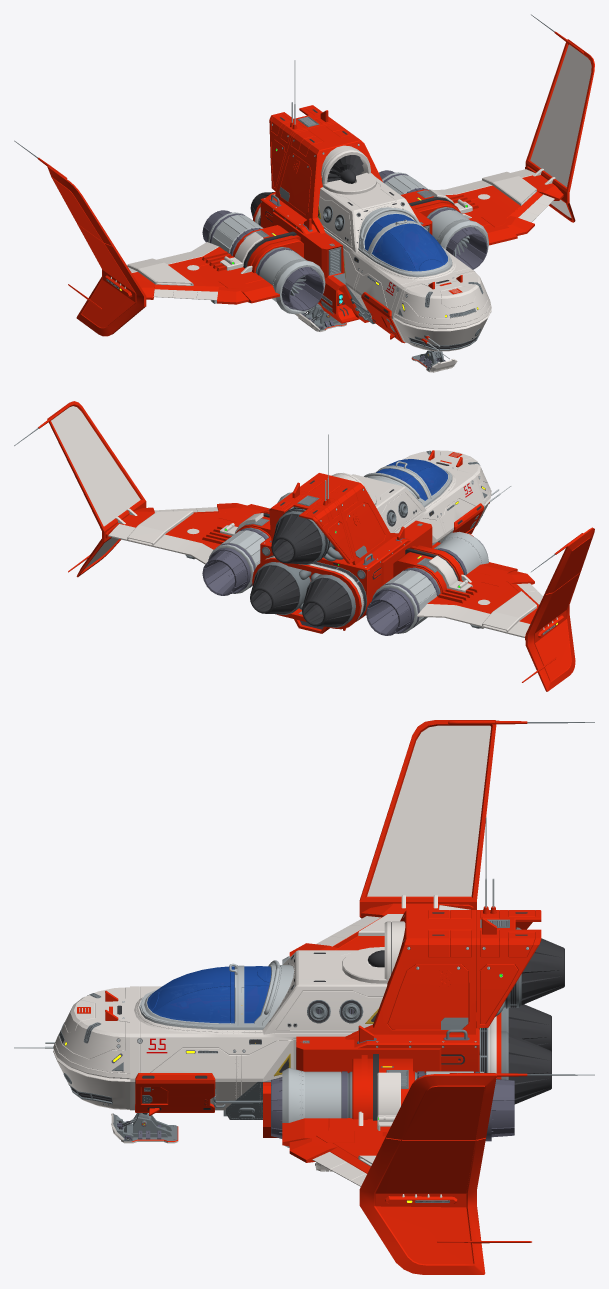
The model's file is radiant-pillar.glb.
3 views of the same model, one above another, from view 1: azimuth 30°, elevation 25°; view 2: azimuth 150°, elevation 25°; view 3: azimuth 270°, elevation 25° (orthographic). The views are drawn at different scales.
Parts seen in each view (by area): view 1: root; view 2: root; view 3: root.
Boxes of the visible parts, x1,y1,x2,y2 form: root: (14,14,594,372); root: (14,401,594,691); root: (14,720,594,1274).
Bounding box in the file's own units: 48 × 19.24 × 33.15.
